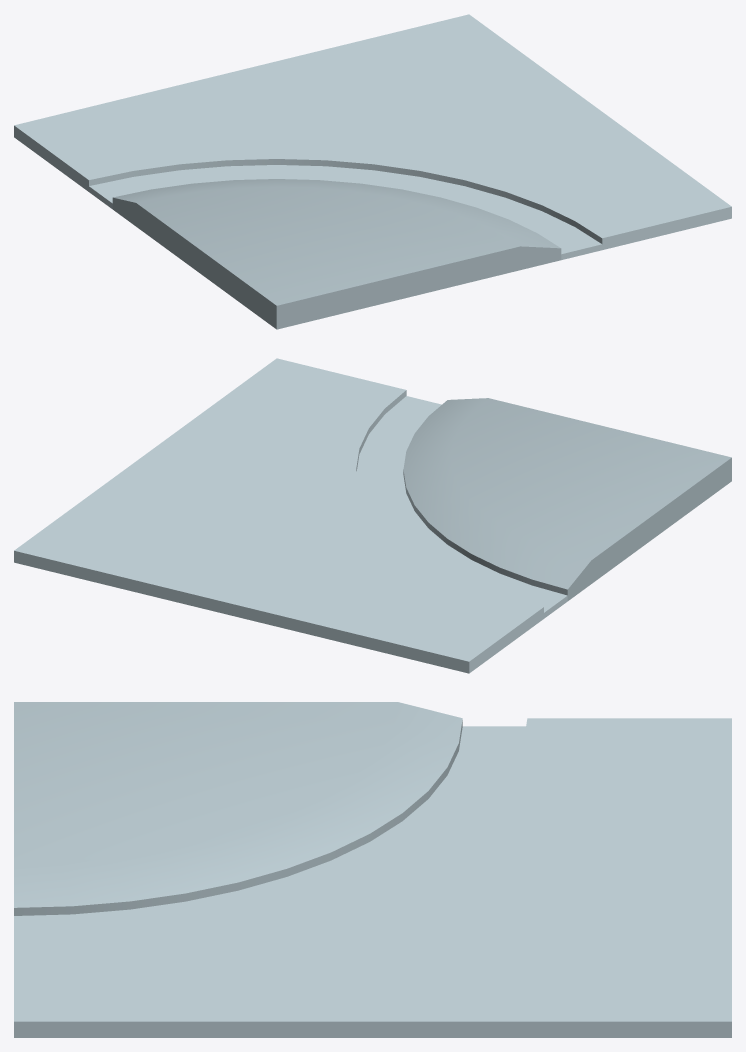
Rendered from roadCorner.glb.
3 views of the same model, one above another, from view 1: azimuth 30°, elevation 25°; view 2: azimuth 150°, elevation 25°; view 3: azimuth 270°, elevation 25° (orthographic). The views are drawn at different scales.
Visible parts, largest first — view 1: roadCorner; view 2: roadCorner; view 3: roadCorner.
Boxes of the visible parts, x1,y1,x2,y2 form: roadCorner: (14,14,731,329); roadCorner: (14,358,731,673); roadCorner: (14,702,731,1037).
Size of the model in its own units: 1 by 0.05 by 1.
